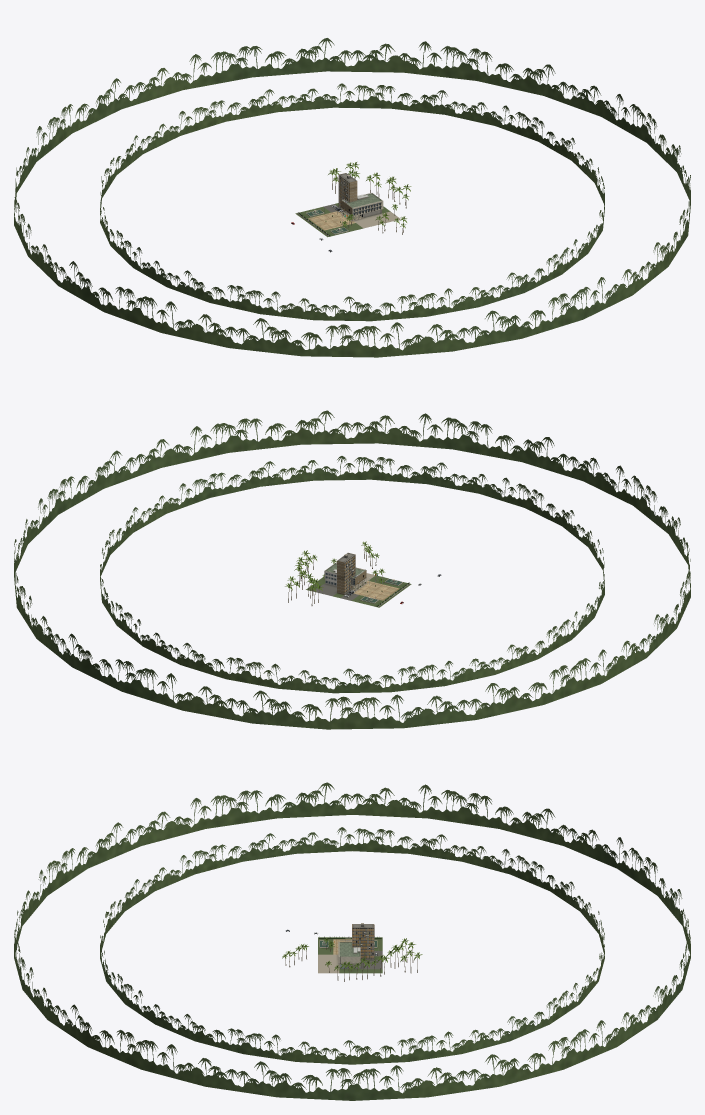
File: hotel-du-district.glb
The picture shows the model from 3 angles, top to bottom: view 1: azimuth 30°, elevation 25°; view 2: azimuth 150°, elevation 25°; view 3: azimuth 270°, elevation 25°; orthographic projection.
Parts seen in each view (by area): view 1: Arbres_lointains, Parvis, Arbres, Tour; view 2: Arbres_lointains, Parvis, Arbres, Tour; view 3: Arbres_lointains, Parvis, Arbres, Tour.
Boxes of the visible parts, x1=… form: Arbres_lointains: x1=14, y1=38, x2=690, y2=357; Parvis: x1=295, y1=203, x2=400, y2=237; Arbres: x1=328, y1=162, x2=411, y2=234; Tour: x1=338, y1=173, x2=357, y2=210; Arbres_lointains: x1=14, y1=410, x2=690, y2=729; Parvis: x1=306, y1=573, x2=411, y2=607; Arbres: x1=285, y1=541, x2=385, y2=605; Tour: x1=337, y1=552, x2=355, y2=594; Arbres_lointains: x1=14, y1=782, x2=690, y2=1100; Parvis: x1=318, y1=937, x2=382, y2=973; Arbres: x1=282, y1=938, x2=422, y2=981; Tour: x1=352, y1=924, x2=374, y2=959.
Size of what is drawn, in the model's own units: 670 by 62.08 by 670.
48 materials, 14 textured.
